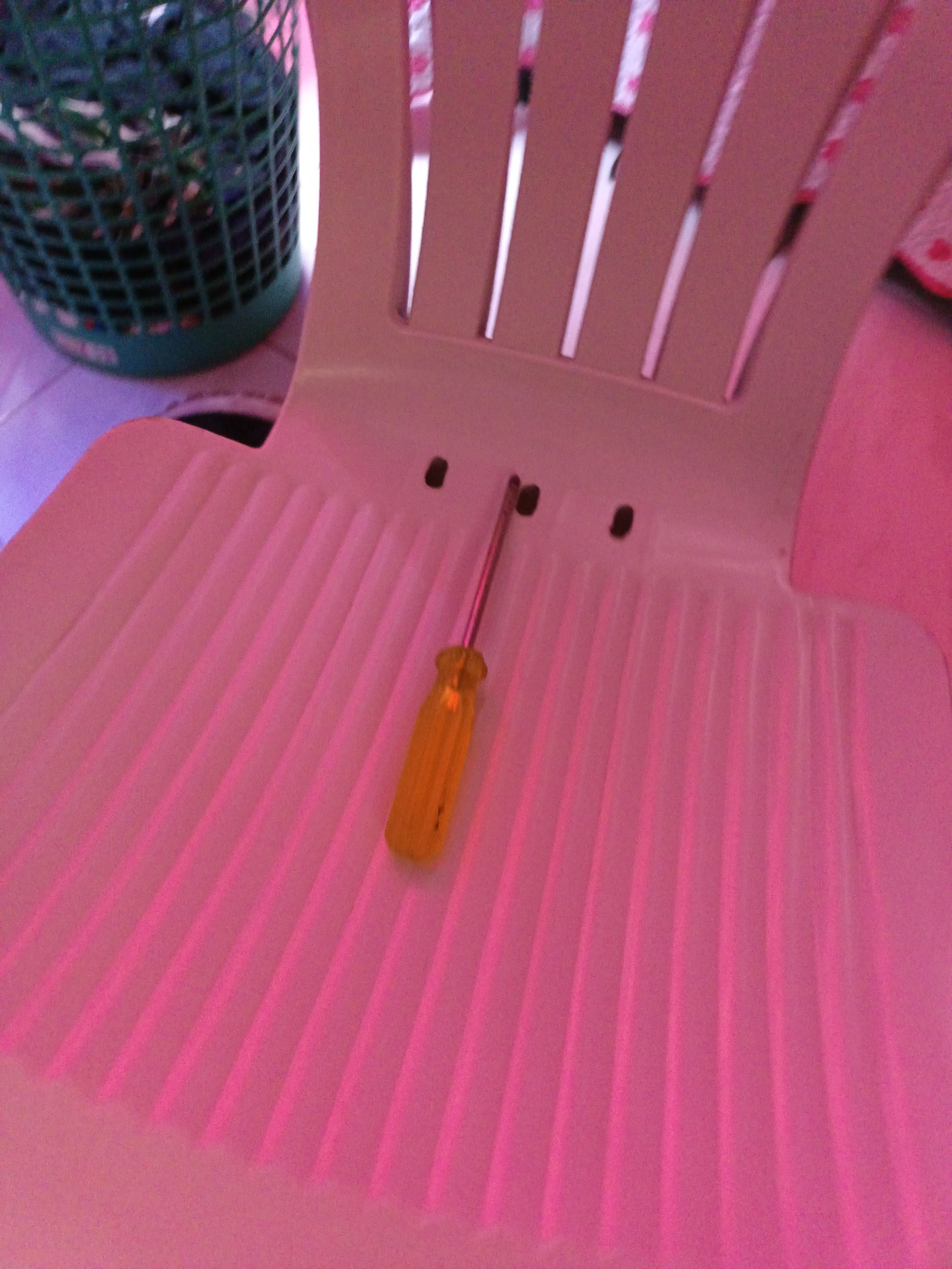Destornillador: (463, 475, 520, 648)
